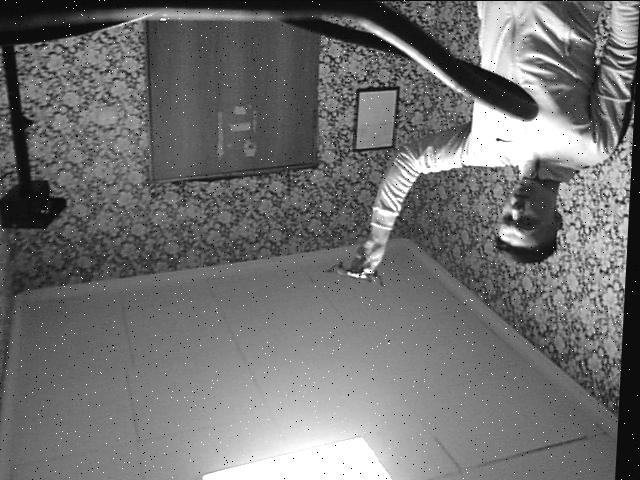drone: (318, 252, 395, 304)
